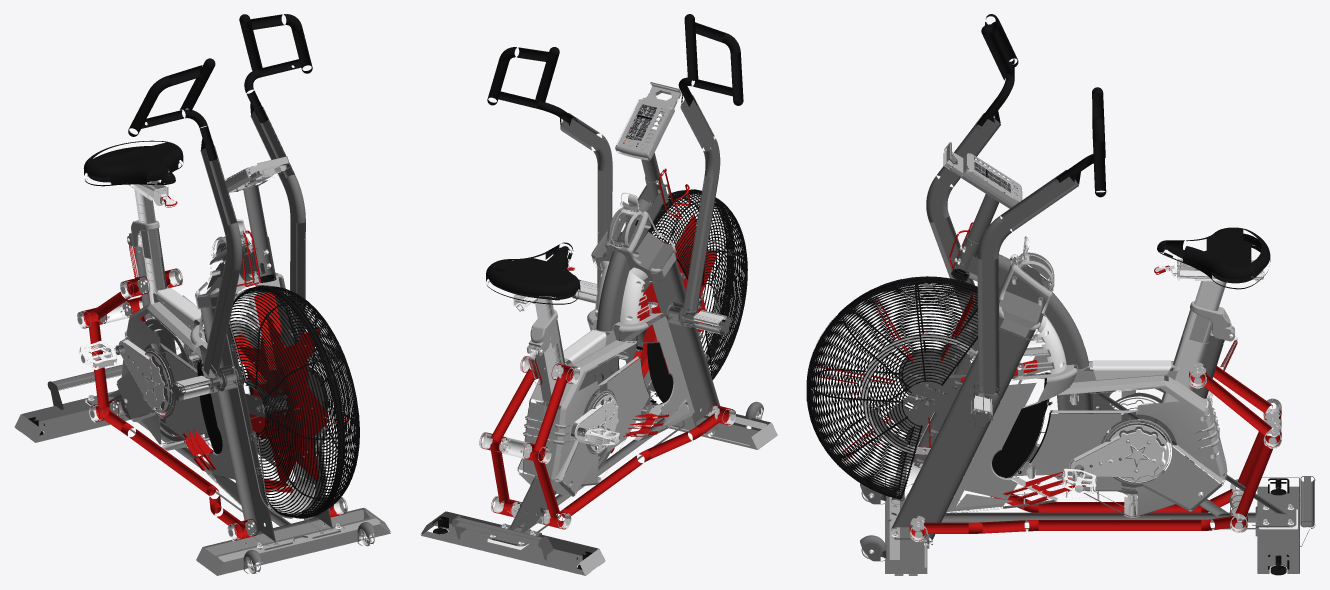
The picture shows the model from 3 angles, left to right: view 1: azimuth 30°, elevation 25°; view 2: azimuth 150°, elevation 25°; view 3: azimuth 270°, elevation 25°; orthographic projection. The views are drawn at different scales.
Visible parts, largest first — view 1: AU90051, AU90073, AU90070, AU90074, AU90039, AU90056, AU90048, AU90067, AU90058, AU90061, Object001, AU90049 (+19 smaller); view 2: AU90039, AU90073, AU90051, AU90067, AU90070, AU90056, AU90074, AU90061, Object001, Obj_AU90075, AU90025, AU90068 (+19 smaller); view 3: AU90051, AU90039, AU90073, AU90067, AU90074, AU90070, Object001, AU90036, AU90061, AU90056, Obj_AU90075, AU90037 (+20 smaller).
Part boxes in pixels (box(x1,y1,x2,y2)): AU90051: box(228, 286, 359, 517); AU90073: box(108, 106, 305, 422); AU90070: box(15, 391, 390, 575); AU90074: box(200, 281, 332, 545); AU90039: box(117, 286, 294, 505); AU90056: box(128, 14, 312, 161); AU90048: box(240, 313, 327, 483); AU90067: box(79, 268, 345, 540); AU90058: box(14, 414, 390, 575); AU90061: box(83, 140, 183, 186); Object001: box(116, 342, 207, 438); AU90049: box(245, 285, 345, 518); AU90039: box(517, 302, 694, 496); AU90073: box(509, 95, 720, 532); AU90051: box(635, 190, 747, 379); AU90067: box(481, 356, 734, 529); AU90070: box(421, 401, 776, 575); AU90056: box(487, 14, 743, 126); AU90074: box(595, 250, 719, 433); AU90061: box(486, 242, 580, 304); Object001: box(562, 358, 649, 493); Obj_AU90075: box(594, 185, 663, 401); AU90025: box(615, 82, 681, 160); AU90068: box(479, 356, 735, 529); AU90051: box(807, 276, 977, 499); AU90039: box(945, 353, 1227, 517); AU90073: box(926, 113, 1286, 518); AU90067: box(909, 366, 1281, 540); AU90074: box(891, 300, 1035, 540); AU90070: box(860, 477, 1299, 573); Object001: box(1031, 390, 1219, 509); AU90036: box(1069, 397, 1170, 482); AU90061: box(1157, 227, 1270, 289); AU90056: box(976, 14, 1106, 197); Obj_AU90075: box(966, 254, 1093, 413); AU90037: box(992, 373, 1052, 478).
Bounding box in the file's own units: 0.7539 × 1.51 × 1.44.
Materials: 36 (18 with a texture image).
